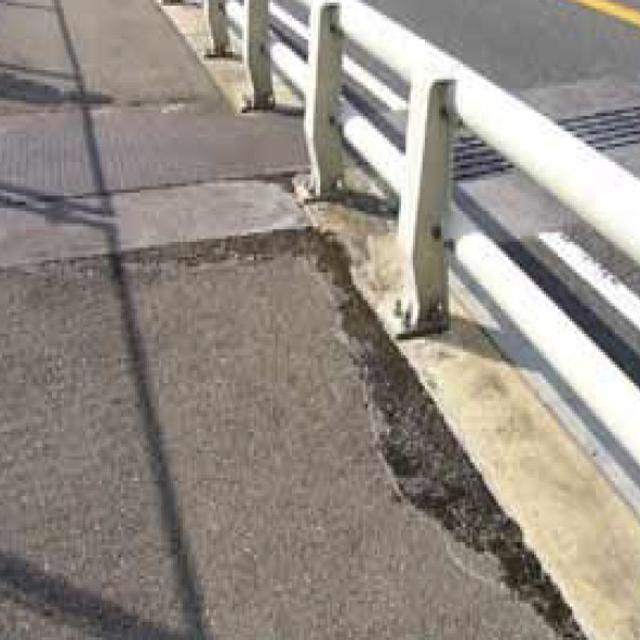leakage: (320, 301, 563, 626), (93, 217, 371, 273)
